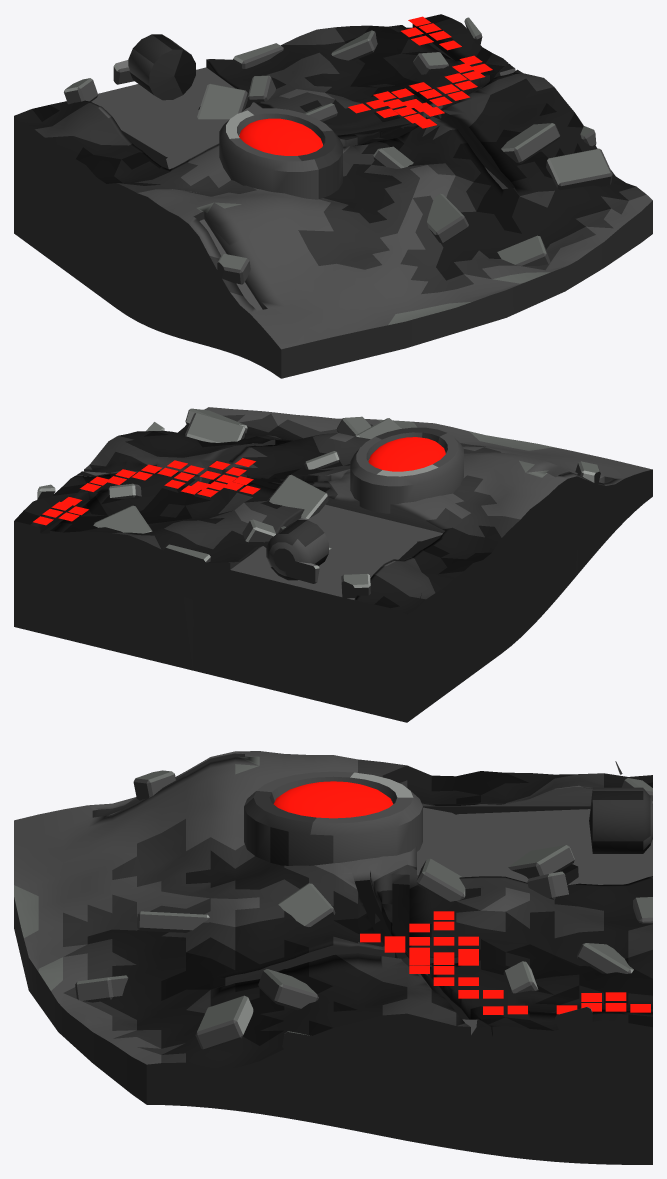
File: camanis_boss_168.glb
3 renders of one model, top to bottom at view 1: azimuth 30°, elevation 25°; view 2: azimuth 150°, elevation 25°; view 3: azimuth 270°, elevation 25°, orthographic. The views are drawn at different scales.
Parts seen in each view (by area): view 1: camanis_boss_168; view 2: camanis_boss_168; view 3: camanis_boss_168.
Part boxes in pixels (x1=…): camanis_boss_168: x1=14, y1=14, x2=652, y2=378; camanis_boss_168: x1=14, y1=407, x2=652, y2=722; camanis_boss_168: x1=14, y1=751, x2=652, y2=1164.
Bounding box in the file's own units: 24 × 9.15 × 26.
